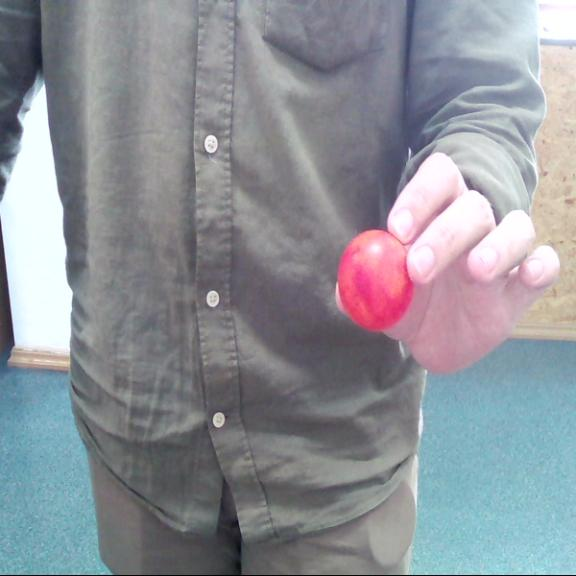ball: (340, 230, 414, 328)
